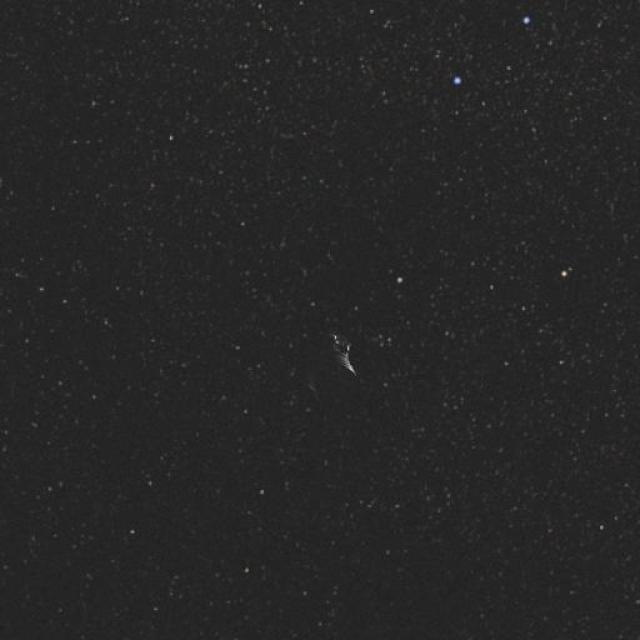debris: (279, 305, 383, 420)
